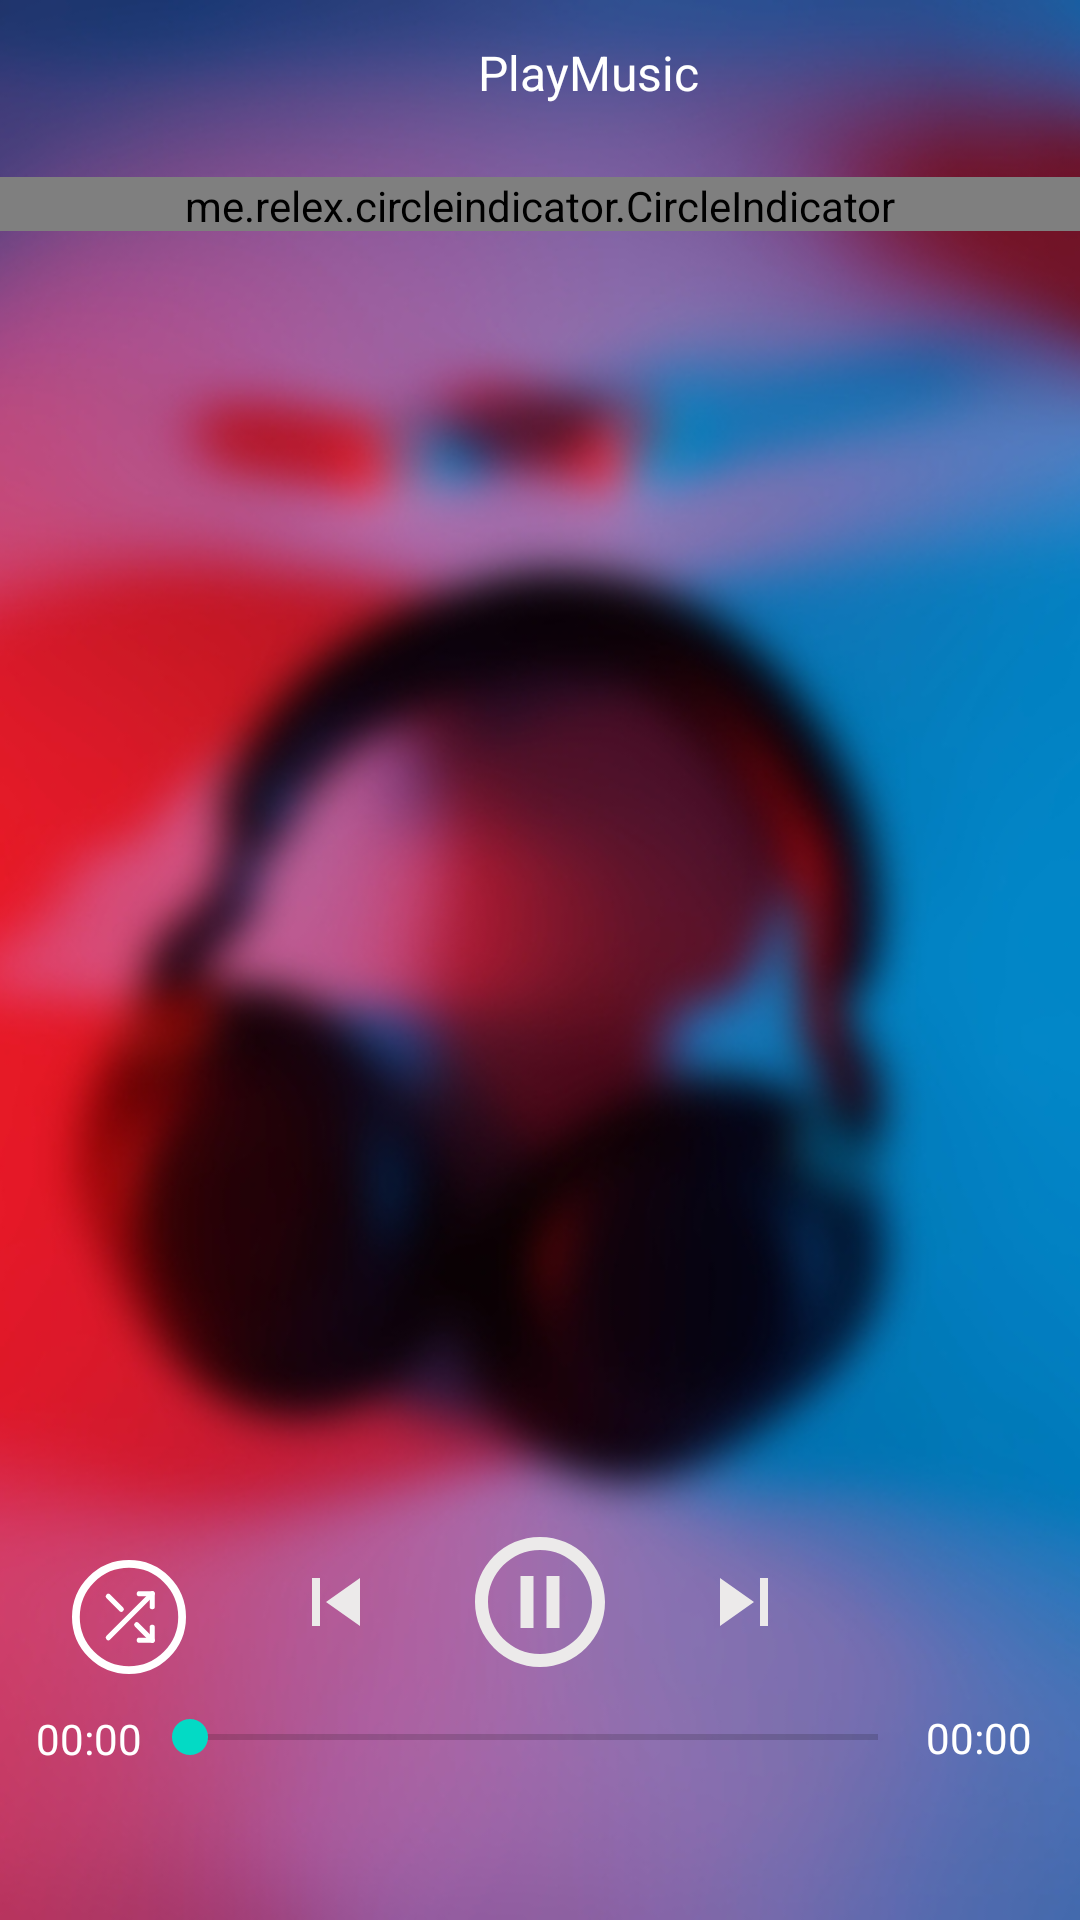

Icons on this 1080w x 1920h Android screen, each with its box as (x1, y1, x2, y2):
pause: (475, 1518, 624, 1686)
previous: (312, 1578, 360, 1626)
